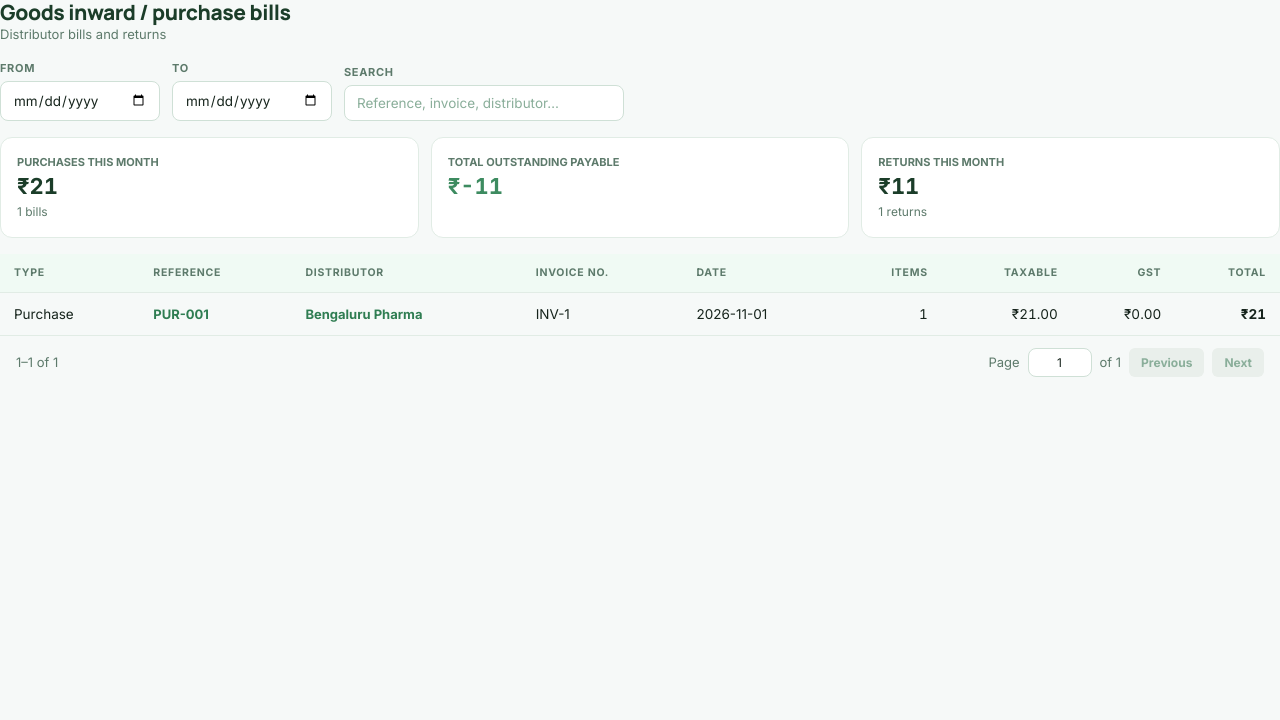
Test: PurchasesPage › hides Create return without purchases:return
The width and height of the screenshot is (1280, 720).
Click the button "PUR-001". click: [181, 314]
box: [153, 306, 209, 322]
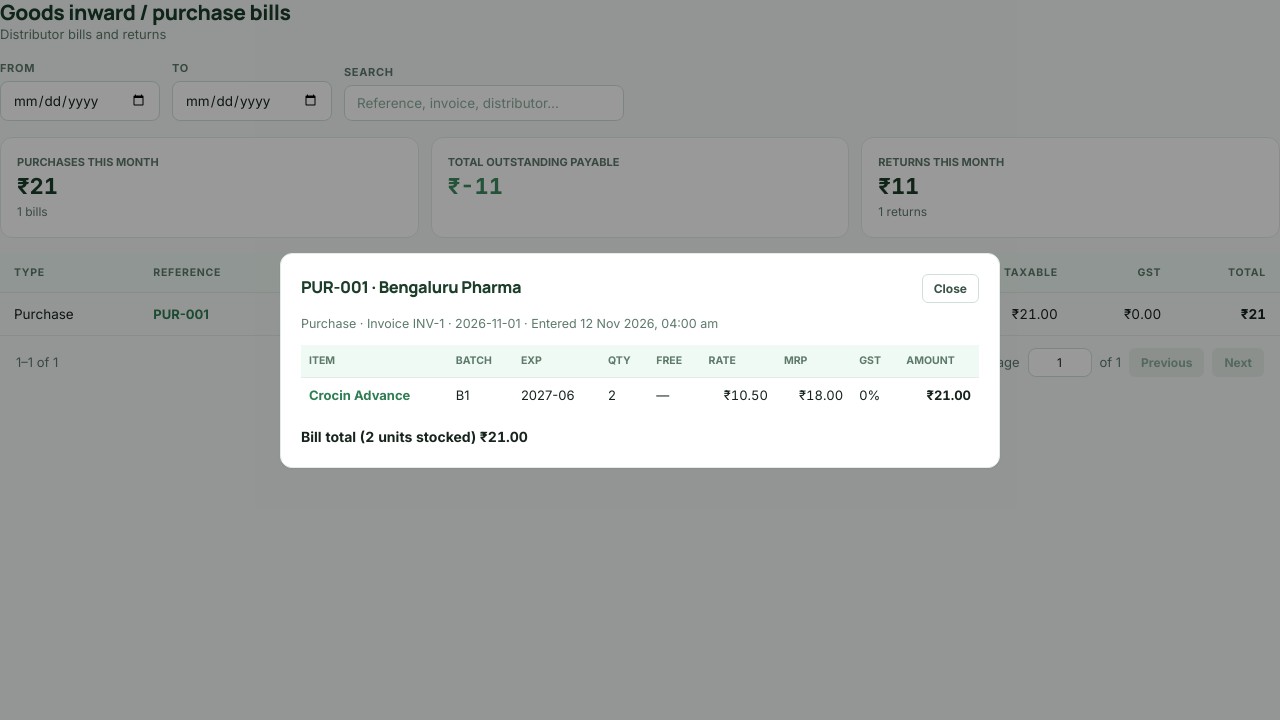
Check: the dialog named "PUR-001 receipt" is shown, box [280, 252, 1000, 468]
